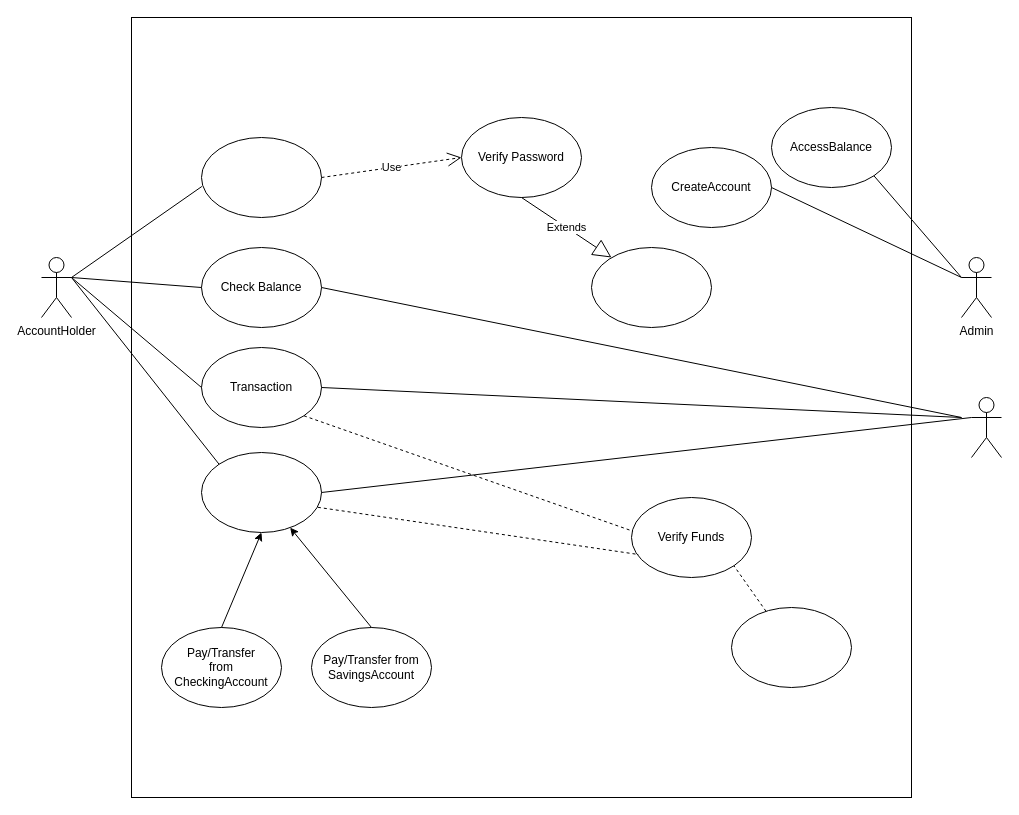
Some shapes in this 1019 by 815 pixel diagram are drawn without their labels. Each missing label, with the centre of its shape:
Bank: [986,427]
Display Login Error: [651,287]
Display Not enough funds error: [791,647]
Log in: [261,177]
Pay: [261,492]
